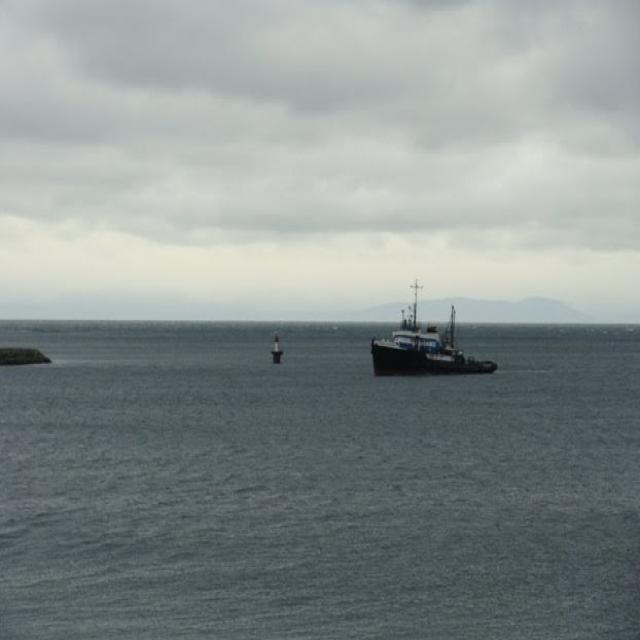fishing boat: (364, 278, 490, 378)
